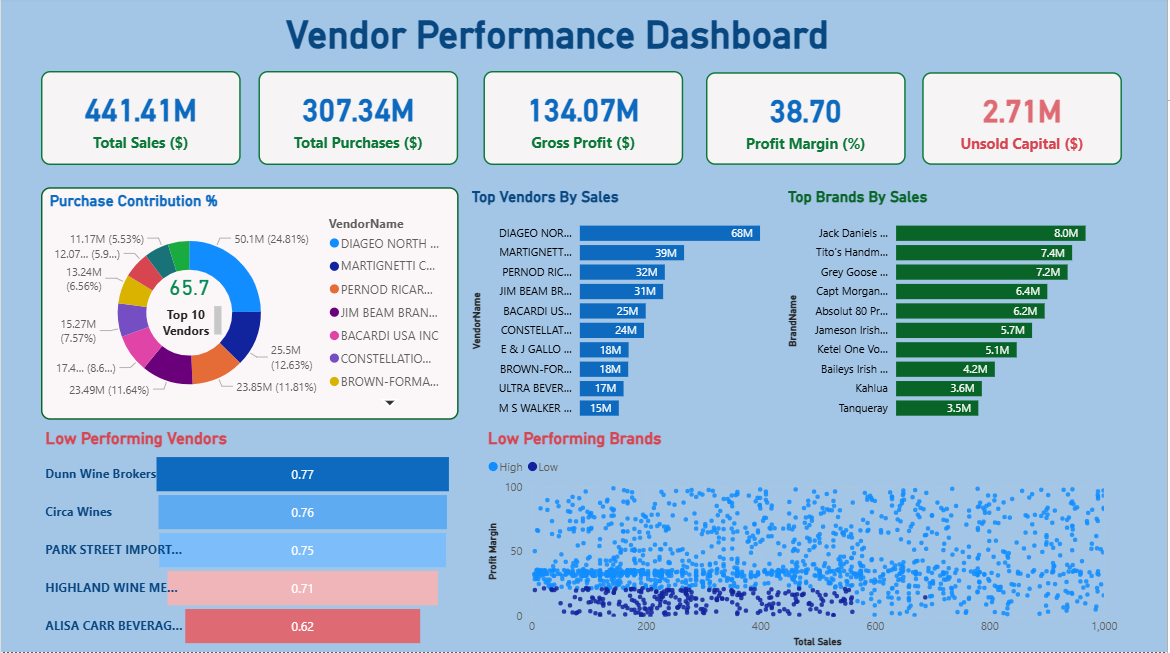

This screenshot's page, from the dashboard's own definition file:
{"tool":"powerbi","page":{"name":"Page 1","canvas":[1280,720],"ordinal":0},"visuals":[{"type":"card","title":"Total Sales ($)","fields":{"Values":["vendor_dashboard_data.Total Sales"]},"box":[43.9,82.3,219.6,102.9],"z":0},{"type":"textbox","title":"Vendor Performance Dashboard","box":[43.9,17.8,1133.5,50.8],"z":1000},{"type":"card","title":"Total Sales ($)","fields":{"Values":["vendor_dashboard_data.Total Purchases"]},"box":[282.7,82.3,219.6,102.9],"z":2000},{"type":"card","title":"Total Sales ($)","fields":{"Values":["vendor_dashboard_data.Gross Profit"]},"box":[529.7,82.3,219.6,102.9],"z":3000},{"type":"card","title":"Total Sales ($)","fields":{"Values":["vendor_dashboard_data.Profit Margin"]},"box":[773.9,83.7,219.6,101.5],"z":4000},{"type":"card","title":"Total Sales ($)","fields":{"Values":["vendor_dashboard_data.Unsold Capital"]},"box":[1011.3,83.7,219.6,101.5],"z":5000},{"type":"donutChart","title":"Purchase Contribution %","fields":{"Category":["vendor_dashboard_data.VendorName"],"Y":["vendor_dashboard_data.TotalPurchaseDollars"]},"box":[43.9,209.9,458.3,255.2],"z":6000},{"type":"clusteredBarChart","title":"Top Vendors By Sales","fields":{"Category":["vendor_dashboard_data.VendorName"],"Y":["vendor_dashboard_data.TotalSalesDollars"]},"box":[511.8,209.9,371.9,264.8],"z":7000},{"type":"clusteredBarChart","title":"Top Brands By Sales","fields":{"Category":["vendor_dashboard_data.Description","vendor_dashboard_data.VendorName"],"Y":["vendor_dashboard_data.TotalSalesDollars"]},"box":[859,209.9,371.9,264.8],"z":8000},{"type":"funnel","title":"Low Performing Vendors","fields":{"Category":["LowTurnoverVendor.VendorName"],"Y":["LowTurnoverVendor.AvgStockTurnover"]},"box":[44,475,458,245],"z":9000},{"type":"scatterChart","title":"Low Performing Brands","fields":{"Y":["vendor_dashboard_data.Profit Margin"],"X":["vendor_dashboard_data.TotalSalesDollars"],"Category":["vendor_dashboard_data.Description"],"Series":["vendor_dashboard_data.Vendor Performance Category"]},"box":[529.7,474.8,701.2,245.6],"z":10000},{"type":"textbox","title":"65.7","box":[166,306,81,72.7],"z":10001}]}

Visuals, with their boxes in screenshot pixels (x1, y1, x2, y2), scaled from the page's 1280x720 canvas onto the 1170x653 screenshot:
"Total Sales ($)" card: bbox=[40, 75, 241, 168]
"Vendor Performance Dashboard" textbox: bbox=[40, 16, 1076, 62]
"Total Sales ($)" card: bbox=[258, 75, 459, 168]
"Total Sales ($)" card: bbox=[484, 75, 685, 168]
"Total Sales ($)" card: bbox=[707, 76, 908, 168]
"Total Sales ($)" card: bbox=[924, 76, 1125, 168]
"Purchase Contribution %" donutChart: bbox=[40, 190, 459, 422]
"Top Vendors By Sales" clusteredBarChart: bbox=[468, 190, 808, 431]
"Top Brands By Sales" clusteredBarChart: bbox=[785, 190, 1125, 431]
"Low Performing Vendors" funnel: bbox=[40, 431, 459, 652]
"Low Performing Brands" scatterChart: bbox=[484, 431, 1125, 652]
"65.7" textbox: bbox=[152, 278, 226, 343]
